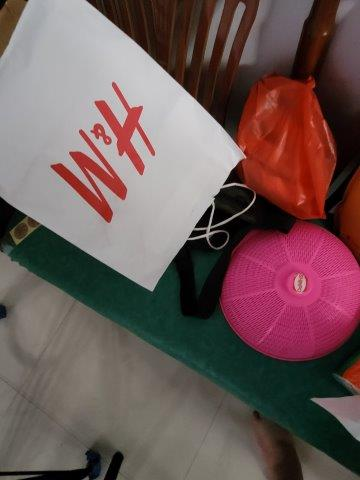plastik: (236, 76, 338, 220)
